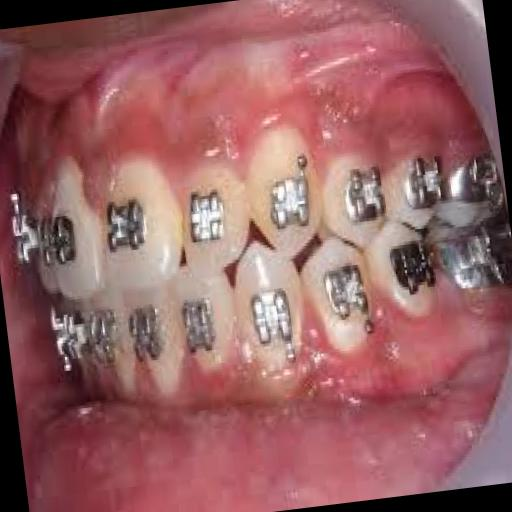correct_brace: (228, 231, 318, 390), (241, 116, 328, 268), (316, 256, 382, 350), (245, 278, 303, 372), (100, 194, 158, 258), (184, 181, 232, 250)
incorrect_brace: (88, 148, 190, 302), (262, 148, 319, 236)
